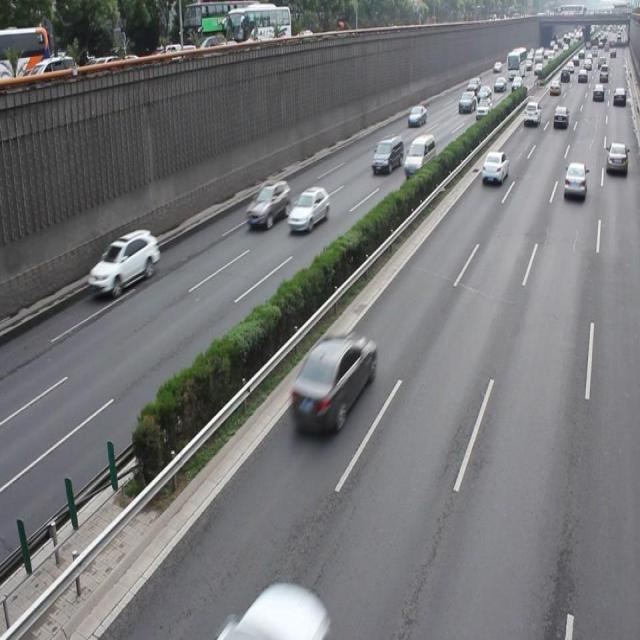car: (288, 332, 374, 432), (88, 228, 159, 298), (246, 180, 290, 230), (285, 185, 328, 233), (481, 149, 508, 184), (562, 161, 585, 200), (605, 140, 626, 176)
truck: (370, 134, 402, 174), (404, 134, 435, 175)
